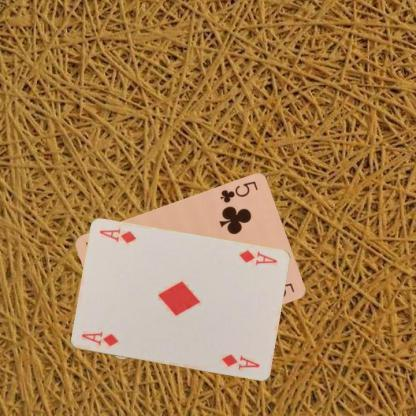5c: (217, 178, 259, 204)
Ad: (236, 247, 278, 267), (78, 329, 119, 348)
